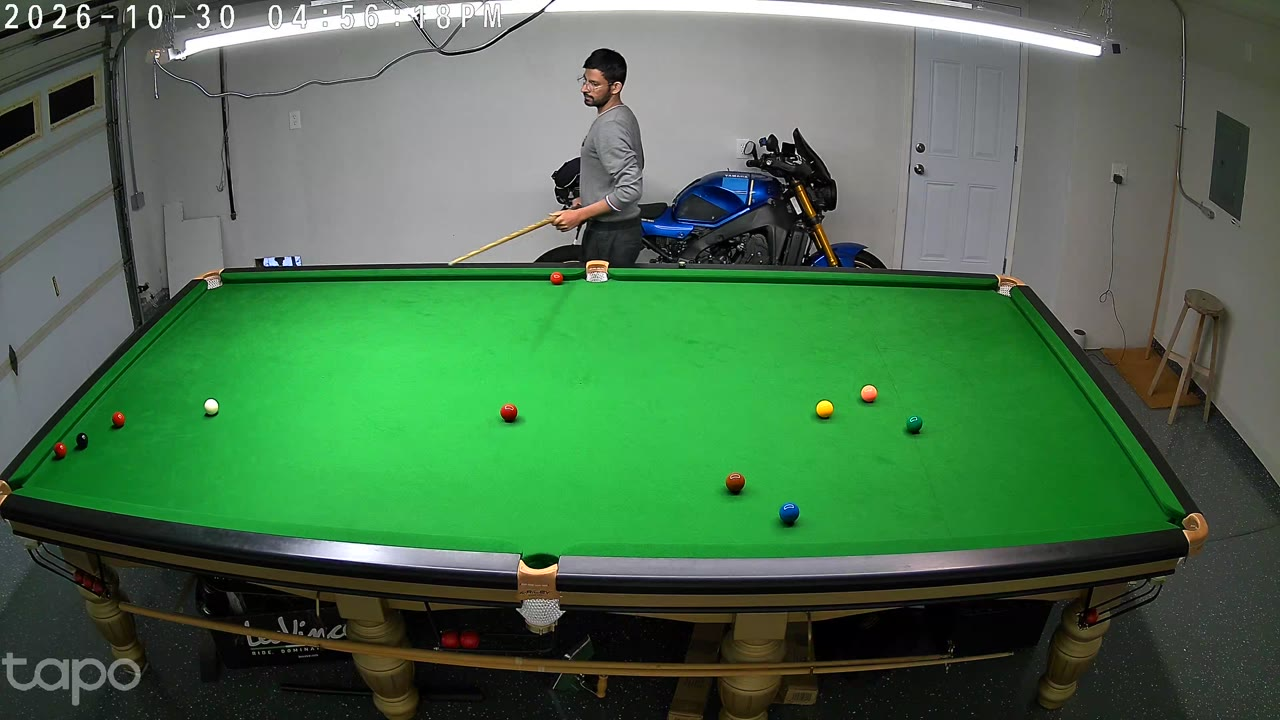black: (76, 431, 89, 451)
blue: (779, 499, 800, 529)
brown: (725, 471, 745, 497)
green: (906, 414, 922, 436)
pink: (860, 384, 876, 404)
red: (500, 401, 517, 424), (54, 440, 67, 461), (112, 410, 125, 430), (550, 270, 563, 288)
white: (204, 397, 219, 419)
yellow: (817, 399, 833, 421)
